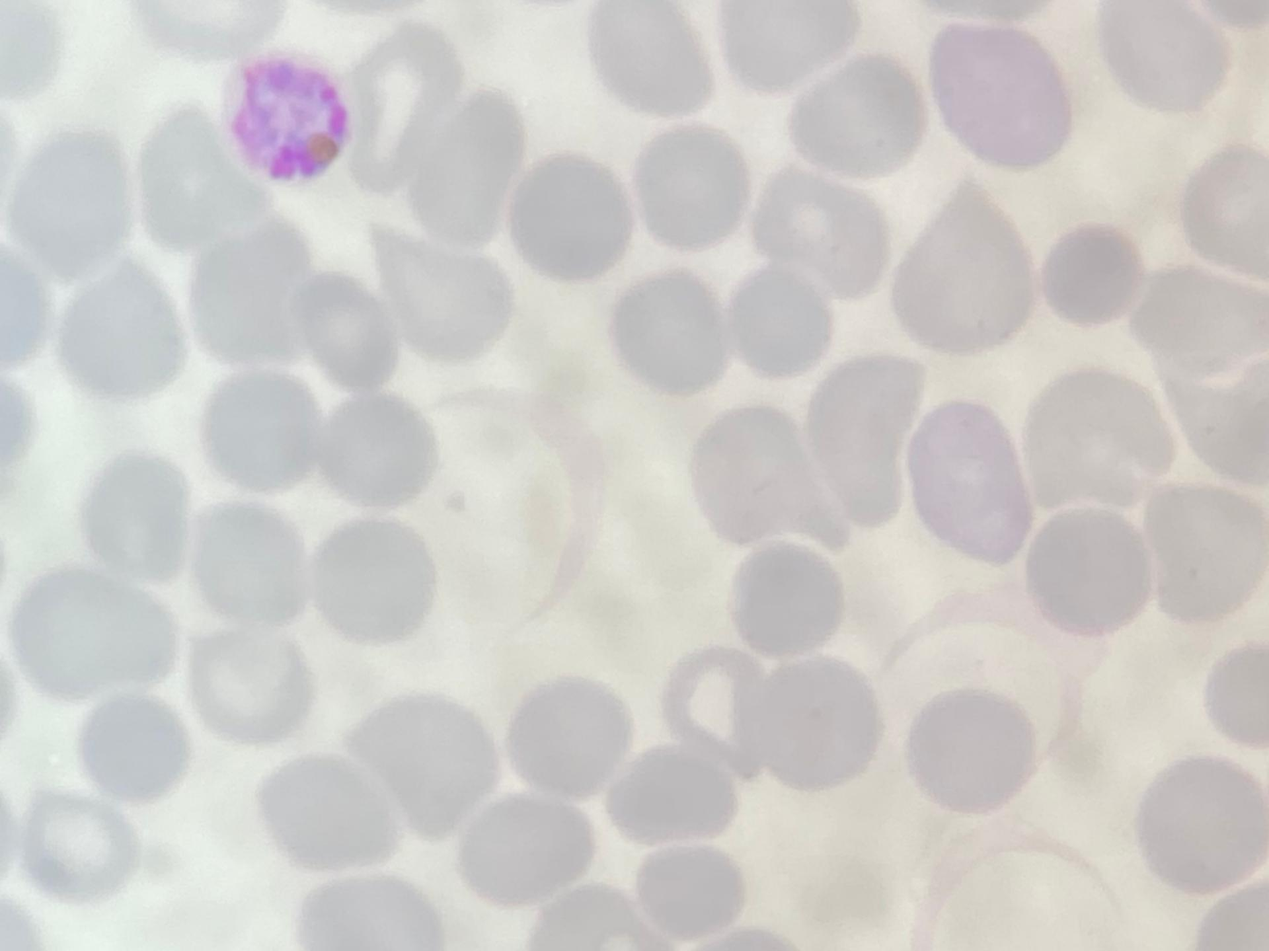Infected: (218, 48, 346, 185)
Uninfected: (887, 179, 1043, 358), (1023, 369, 1178, 514), (811, 356, 934, 533), (934, 22, 1075, 176), (362, 696, 502, 850), (364, 223, 515, 364), (12, 569, 174, 699), (188, 218, 326, 369), (909, 399, 1029, 567), (350, 23, 467, 193), (758, 159, 894, 304), (12, 124, 132, 288), (788, 52, 934, 184), (132, 108, 274, 243), (1137, 754, 1269, 896), (58, 263, 191, 401), (696, 402, 825, 542), (259, 749, 403, 873), (507, 674, 639, 808), (1150, 481, 1269, 624), (1142, 258, 1269, 390), (758, 650, 878, 789), (905, 688, 1038, 812), (415, 88, 523, 239), (1029, 508, 1154, 637), (464, 785, 596, 906), (192, 622, 318, 747), (514, 151, 633, 282), (316, 517, 438, 644), (76, 446, 195, 576), (1102, 0, 1235, 115), (613, 272, 734, 397), (207, 367, 325, 495), (286, 263, 403, 390), (666, 646, 769, 788), (192, 504, 309, 627), (611, 739, 740, 849), (639, 123, 751, 249), (25, 785, 140, 907), (729, 541, 849, 656), (322, 394, 437, 509), (719, 0, 855, 94), (633, 838, 746, 949), (598, 9, 716, 115), (78, 699, 192, 801), (1188, 142, 1269, 278), (735, 265, 831, 377), (1043, 227, 1145, 328)
